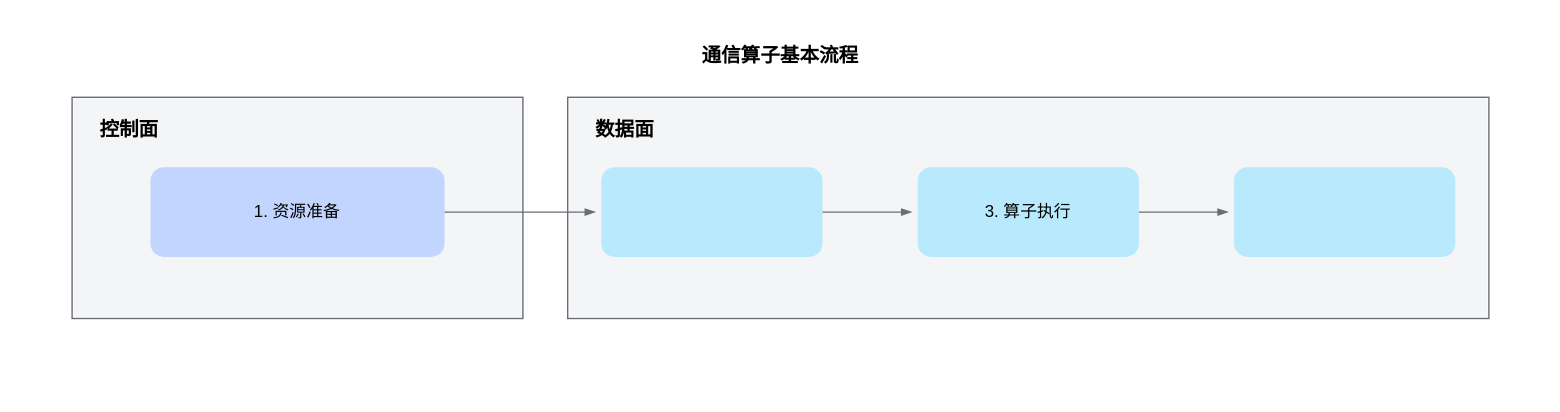
Some shapes in this 1560 by 412 pixel diagram are drawn without their labels. The centre of each missing label's shape, as x and y in pixels:
2. 前同步: [711,211]
4. 后同步: [1344,211]
